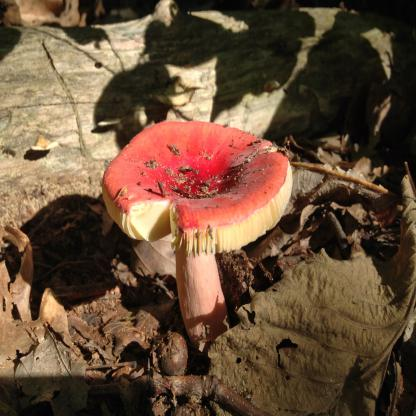Mushroom: (106, 116, 293, 365)
